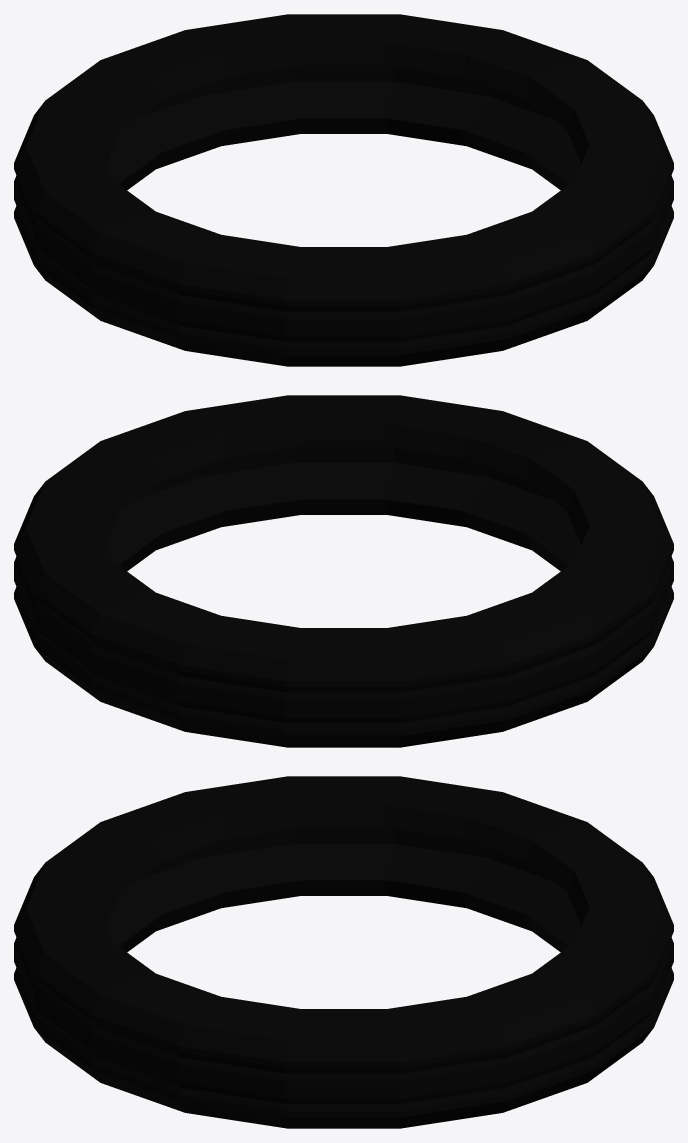
File: jamirengas.fbx
3 views of the same model, one above another, from view 1: azimuth 30°, elevation 25°; view 2: azimuth 150°, elevation 25°; view 3: azimuth 270°, elevation 25° (orthographic).
Parts seen in each view (by area): view 1: Cylinder; view 2: Cylinder; view 3: Cylinder.
Boxes of the visible parts, x1=… form: Cylinder: x1=14, y1=14, x2=673, y2=366; Cylinder: x1=14, y1=395, x2=673, y2=747; Cylinder: x1=14, y1=776, x2=673, y2=1128.
Bounding box in the file's own units: 2.05 × 2.08 × 0.3166.
